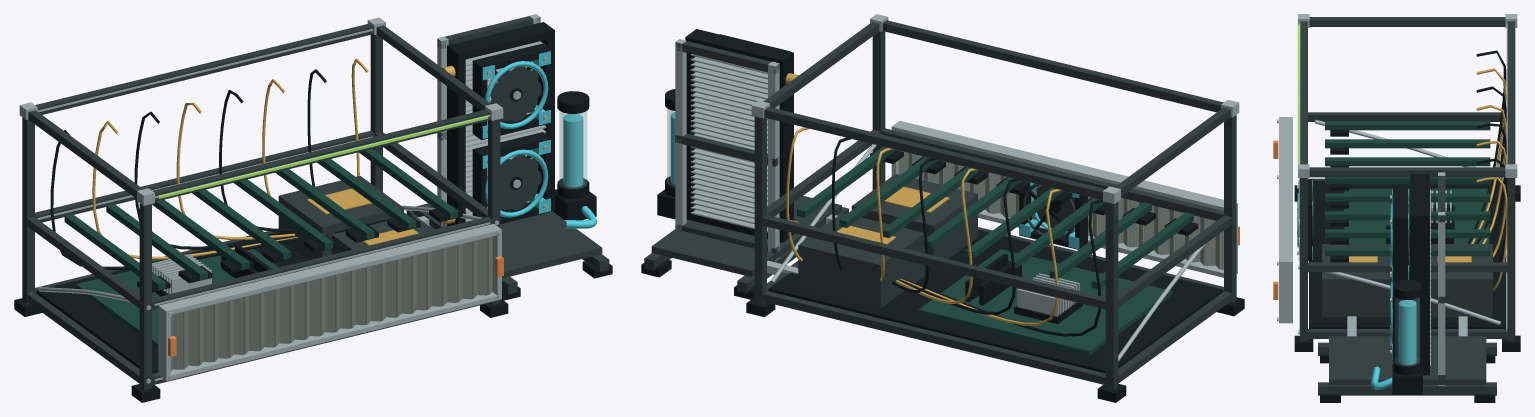
Rendered from rig-runtime-8-pleated-liquid.glb.
The picture shows the model from 3 angles, left to right: view 1: azimuth 30°, elevation 25°; view 2: azimuth 150°, elevation 25°; view 3: azimuth 270°, elevation 25°; orthographic projection. The views are drawn at different scales.
Visible parts, largest first — view 1: Anodized graphite (×4), Rubber and ABS (×5), Filter fibres, Brushed aluminium (×3), Circuit board, Coolant blue (×3), cooling-liquid, rig-runtime-8-pleated-liquid, Contacts, slot-cable-1, slot-cable-2, slot-cable-3 (+2 smaller); view 2: Anodized graphite (×2), Rubber and ABS (×4), Brushed aluminium (×3), Circuit board, Filter fibres, Contacts, slot-cable-1, slot-cable-2, slot-cable-3, slot-cable-4, cooling-liquid, slot-cable-5 (+1 smaller); view 3: Anodized graphite (×2), Rubber and ABS (×6), Circuit board, Brushed aluminium (×3), Coolant blue (×2), cooling-liquid, slot-cable-1, rig-runtime-8-pleated-liquid, slot-cable-2, slot-cable-3, Contacts, slot-cable-8 (+4 smaller).
Part boxes in pixels (left/top/right/bottom): Anodized graphite (×4): left=22, top=16, right=609, bottom=389; Rubber and ABS (×5): left=14, top=22, right=612, bottom=402; Filter fibres: left=170, top=236, right=492, bottom=371; Brushed aluminium (×3): left=19, top=14, right=546, bottom=383; Circuit board: left=64, top=149, right=457, bottom=348; Coolant blue (×3): left=482, top=51, right=597, bottom=228; cooling-liquid: left=559, top=111, right=586, bottom=188; rig-runtime-8-pleated-liquid: left=158, top=115, right=488, bottom=198; Contacts: left=307, top=188, right=418, bottom=245; slot-cable-1: left=50, top=130, right=299, bottom=269; slot-cable-2: left=92, top=120, right=297, bottom=259; slot-cable-3: left=134, top=111, right=296, bottom=249; Anodized graphite (×2): left=644, top=20, right=1236, bottom=389; Rubber and ABS (×4): left=641, top=29, right=1244, bottom=402; Brushed aluminium (×3): left=675, top=14, right=1239, bottom=361; Circuit board: left=797, top=146, right=1193, bottom=355; Filter fibres: left=898, top=150, right=1223, bottom=269; Contacts: left=836, top=186, right=949, bottom=244; slot-cable-1: left=901, top=199, right=1102, bottom=336; slot-cable-2: left=900, top=189, right=1061, bottom=325; slot-cable-3: left=898, top=178, right=1019, bottom=314; slot-cable-4: left=896, top=168, right=977, bottom=303; cooling-liquid: left=667, top=108, right=674, bottom=186; slot-cable-5: left=892, top=158, right=935, bottom=293; Anodized graphite (×2): left=1300, top=17, right=1515, bottom=395; Rubber and ABS (×6): left=1294, top=129, right=1520, bottom=402; Circuit board: left=1325, top=121, right=1490, bottom=262; Brushed aluminium (×3): left=1279, top=14, right=1517, bottom=385; Coolant blue (×2): left=1371, top=189, right=1416, bottom=389; cooling-liquid: left=1395, top=297, right=1419, bottom=365; slot-cable-1: left=1467, top=50, right=1506, bottom=243; rig-runtime-8-pleated-liquid: left=1297, top=24, right=1300, bottom=168; slot-cable-2: left=1471, top=68, right=1506, bottom=243; slot-cable-3: left=1475, top=86, right=1506, bottom=243; Contacts: left=1349, top=256, right=1471, bottom=262; slot-cable-8: left=1476, top=177, right=1507, bottom=290.
Bounding box in the file's own units: 8.43 × 3.32 × 4.01.
